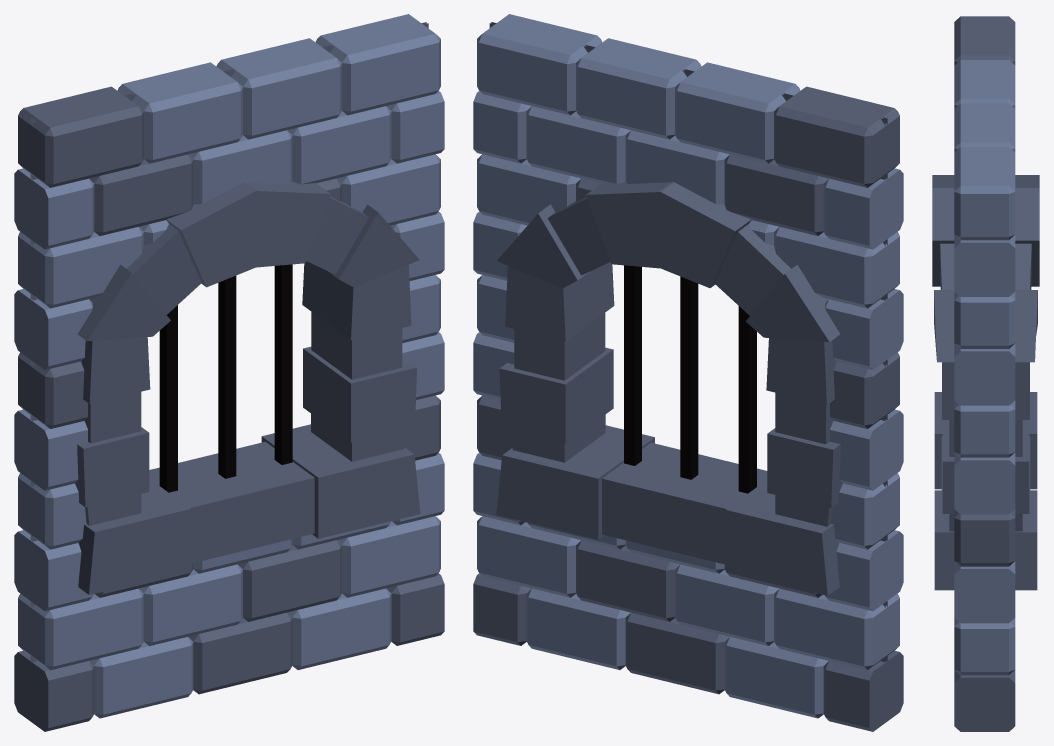
File: Wall_Window.fbx
The picture shows the model from 3 angles, left to right: view 1: azimuth 30°, elevation 25°; view 2: azimuth 150°, elevation 25°; view 3: azimuth 270°, elevation 25°; orthographic projection. The views are drawn at different scales.
Visible parts, largest first — view 1: EXPORT_Wall_Window; view 2: EXPORT_Wall_Window; view 3: EXPORT_Wall_Window.
Boxes of the visible parts, x1,y1,x2,y2 form: EXPORT_Wall_Window: (14, 14, 444, 731); EXPORT_Wall_Window: (473, 14, 903, 731); EXPORT_Wall_Window: (932, 16, 1039, 731).
Bounding box in the file's own units: 211 × 306 × 54.65.
